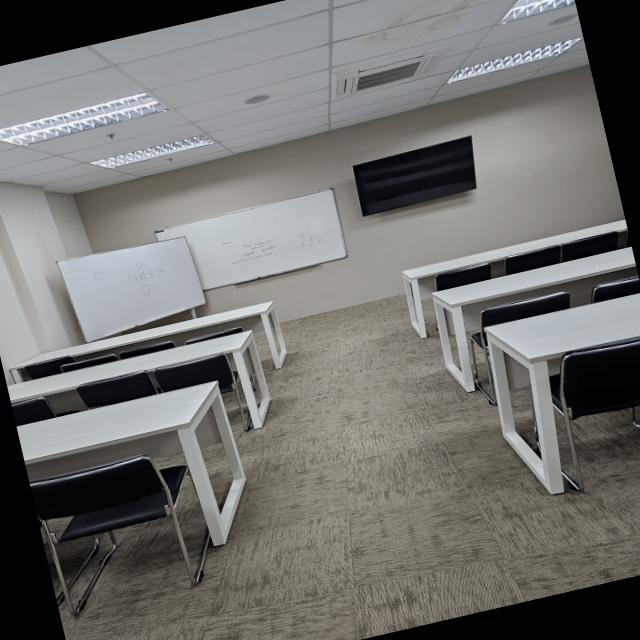footpath: (280, 339, 485, 640)
obstacle: (17, 374, 262, 584), (473, 287, 640, 506), (31, 442, 220, 620), (430, 284, 493, 397), (223, 328, 274, 428)
